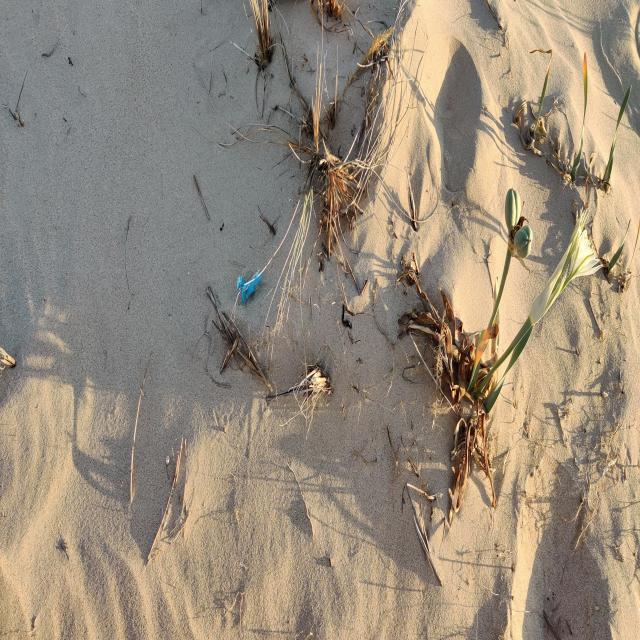Unlabeled litter: (238, 271, 263, 307)
